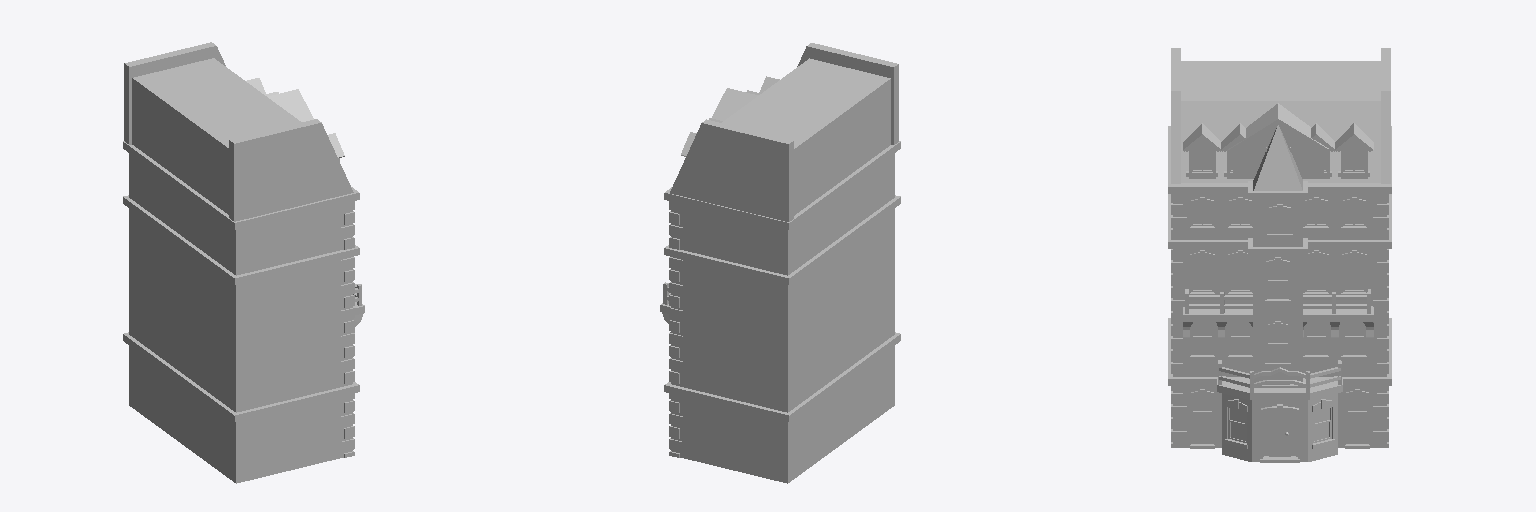
Rendered from House1.obj.
3 views of the same model, side by side, from view 1: azimuth 30°, elevation 25°; view 2: azimuth 150°, elevation 25°; view 3: azimuth 270°, elevation 25° (orthographic).
Parts seen in each view (by area): view 1: House1:Cube_375; view 2: House1:Cube_375; view 3: House1:Cube_375.
Boxes of the visible parts, box(x1,y1,x2,y2) form: House1:Cube_375: box(123, 42, 364, 483); House1:Cube_375: box(660, 43, 900, 483); House1:Cube_375: box(1168, 48, 1391, 462).
Size of the model in its own units: 8.09 by 17.08 by 10.14.